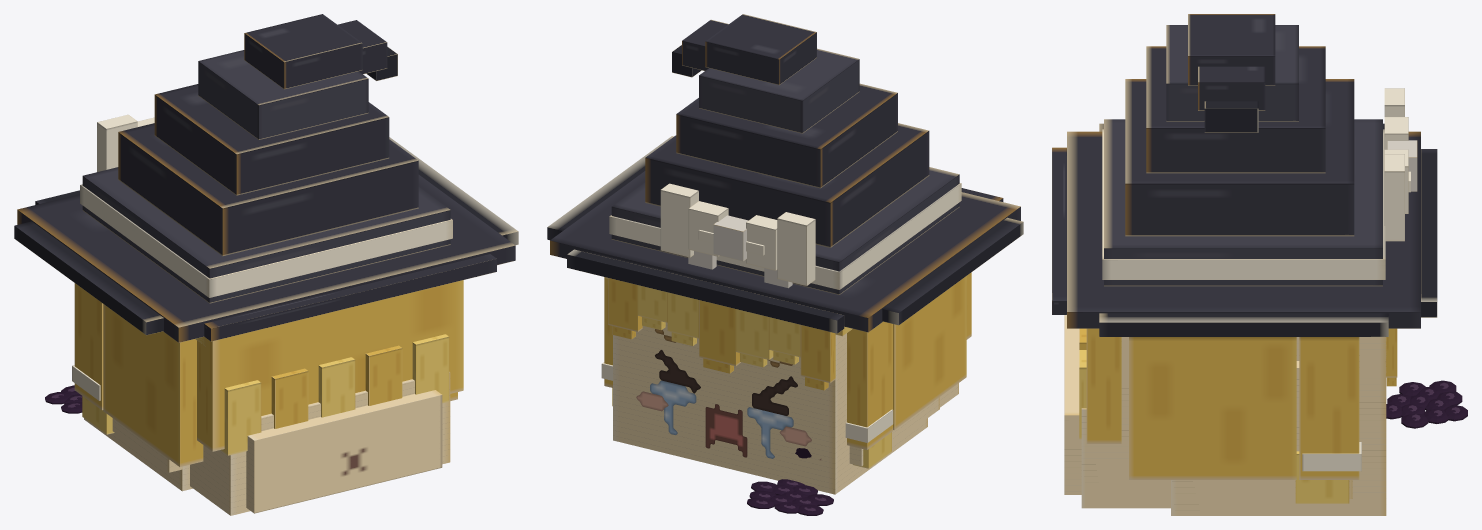
File: leak_marisa_3.obj
The picture shows the model from 3 angles, left to right: view 1: azimuth 30°, elevation 25°; view 2: azimuth 150°, elevation 25°; view 3: azimuth 270°, elevation 25°; orthographic projection. The views are drawn at different scales.
Parts seen in each view (by area): view 1: leak_marisa_3; view 2: leak_marisa_3; view 3: leak_marisa_3.
Boxes of the visible parts, x1=… form: leak_marisa_3: x1=14, y1=14, x2=518, y2=515; leak_marisa_3: x1=547, y1=14, x2=1023, y2=515; leak_marisa_3: x1=1052, y1=14, x2=1467, y2=515.
Size of the model in its own units: 19 by 19.34 by 16.77.
1 material, 1 textured.
